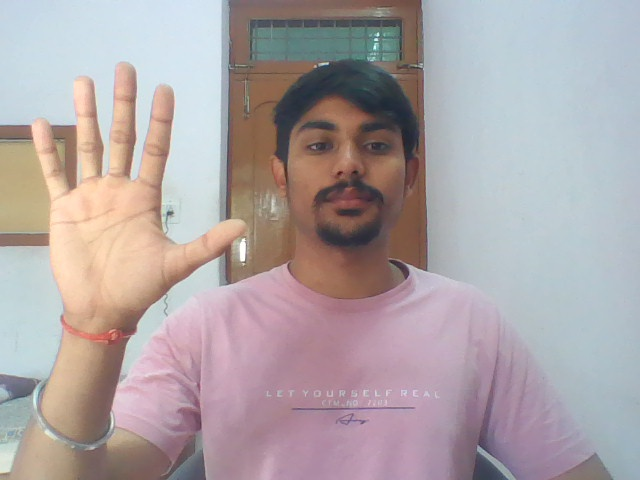Hello: (20, 58, 248, 316)
